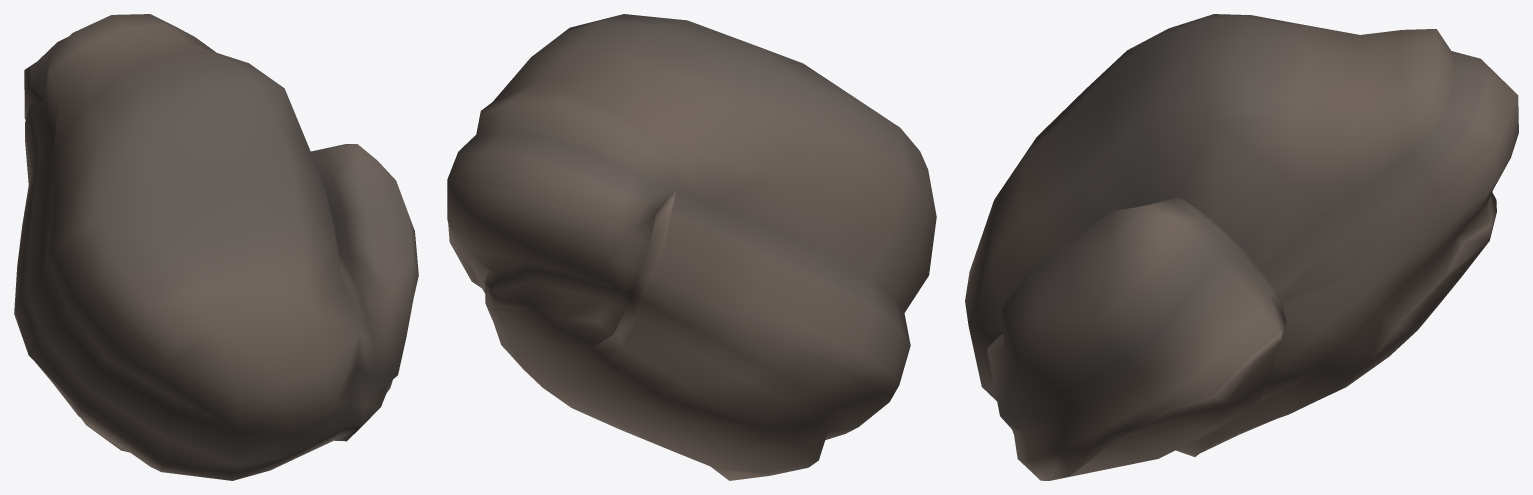
The model's file is SlantedRock.002.glb.
3 views of the same model, side by side, from view 1: azimuth 30°, elevation 25°; view 2: azimuth 150°, elevation 25°; view 3: azimuth 270°, elevation 25° (orthographic). The views are drawn at different scales.
Parts seen in each view (by area): view 1: SlantedRock.002; view 2: SlantedRock.002; view 3: SlantedRock.002.
Boxes of the visible parts, bbox=[...] form: SlantedRock.002: bbox=[14, 14, 418, 480]; SlantedRock.002: bbox=[447, 14, 936, 480]; SlantedRock.002: bbox=[965, 14, 1518, 480].
Bounding box in the file's own units: 1136 × 1124 × 1280.
